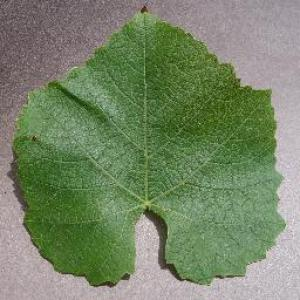Folha: (10, 5, 286, 287)
